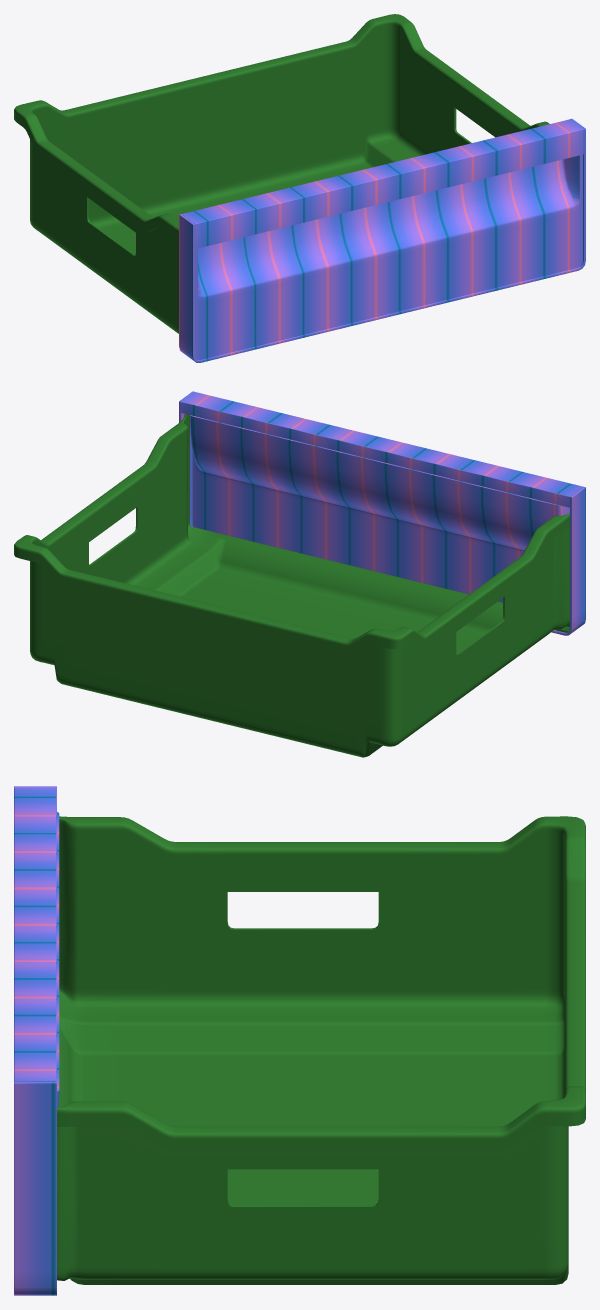
File: SM_Fridge_Drawer_04.fbx
3 views of the same model, one above another, from view 1: azimuth 30°, elevation 25°; view 2: azimuth 150°, elevation 25°; view 3: azimuth 270°, elevation 25° (orthographic). The views are drawn at different scales.
Parts seen in each view (by area): view 1: SM_Fridge_Drawer_04; view 2: SM_Fridge_Drawer_04; view 3: SM_Fridge_Drawer_04.
Part boxes in pixels (box(x1,y1,x2,y2)): SM_Fridge_Drawer_04: box(14, 14, 585, 362); SM_Fridge_Drawer_04: box(14, 391, 585, 757); SM_Fridge_Drawer_04: box(14, 786, 585, 1295).
Bounding box in the file's own units: 40.9 × 15.2 × 33.3.
Materials: 3 (2 with a texture image).
